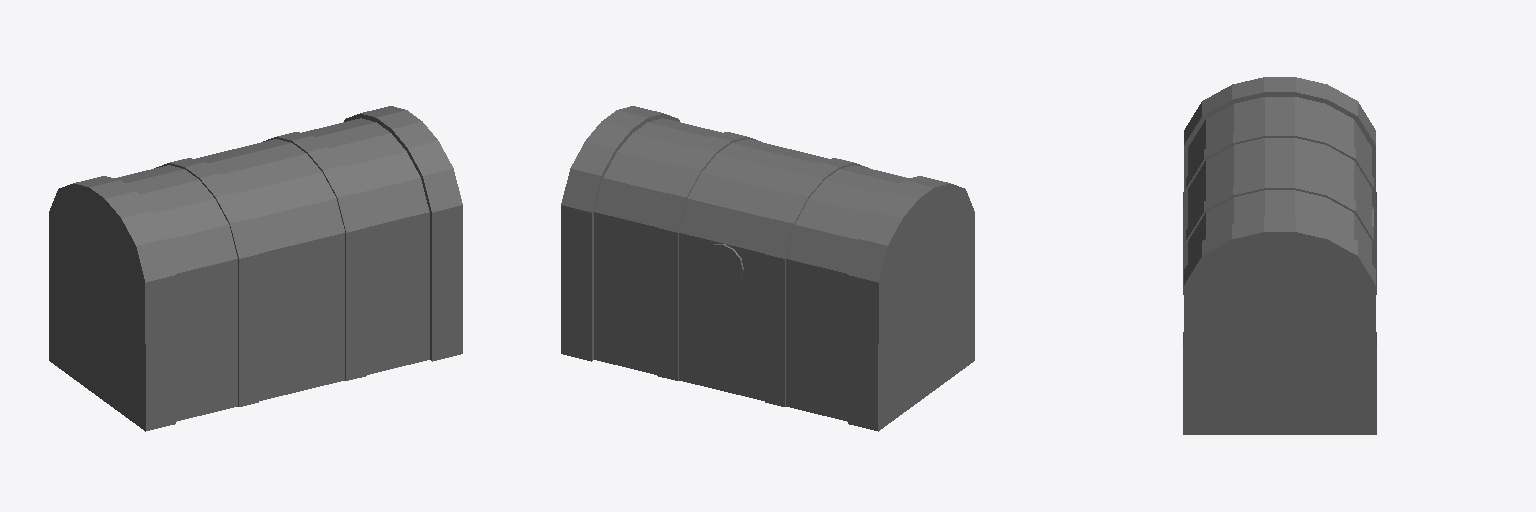
The model's file is chest.obj.
3 renders of one model, left to right at view 1: azimuth 30°, elevation 25°; view 2: azimuth 150°, elevation 25°; view 3: azimuth 270°, elevation 25°, orthographic.
Parts seen in each view (by area): view 1: g0; view 2: g0; view 3: g0.
Part boxes in pixels (x1,y1,x2,y2): g0: (49,106,462,431); g0: (561,106,974,431); g0: (1183,77,1376,434).
Bounding box in the file's own units: 0.9617 × 0.5874 × 0.5068.